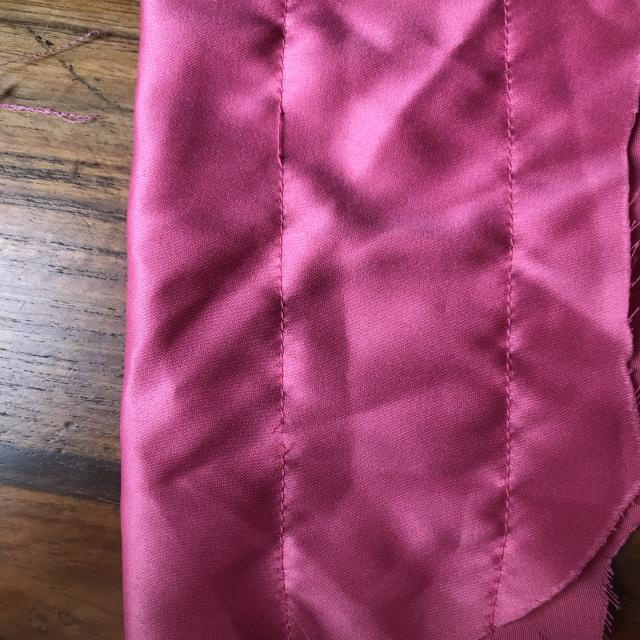broken: (265, 399, 310, 466)
skip: (260, 85, 294, 171)
